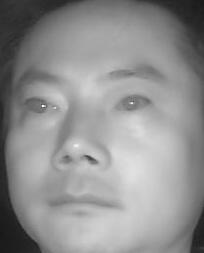eye: (18, 95, 61, 120), (111, 92, 153, 116)
mouth: (46, 184, 119, 221)
